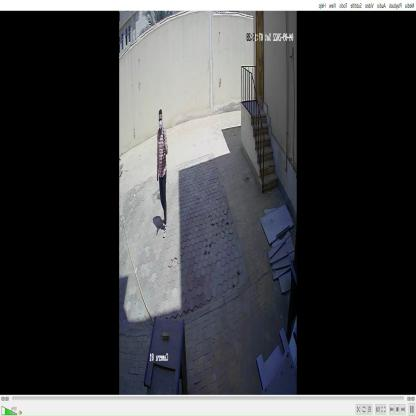handgun: (161, 124, 169, 152)
